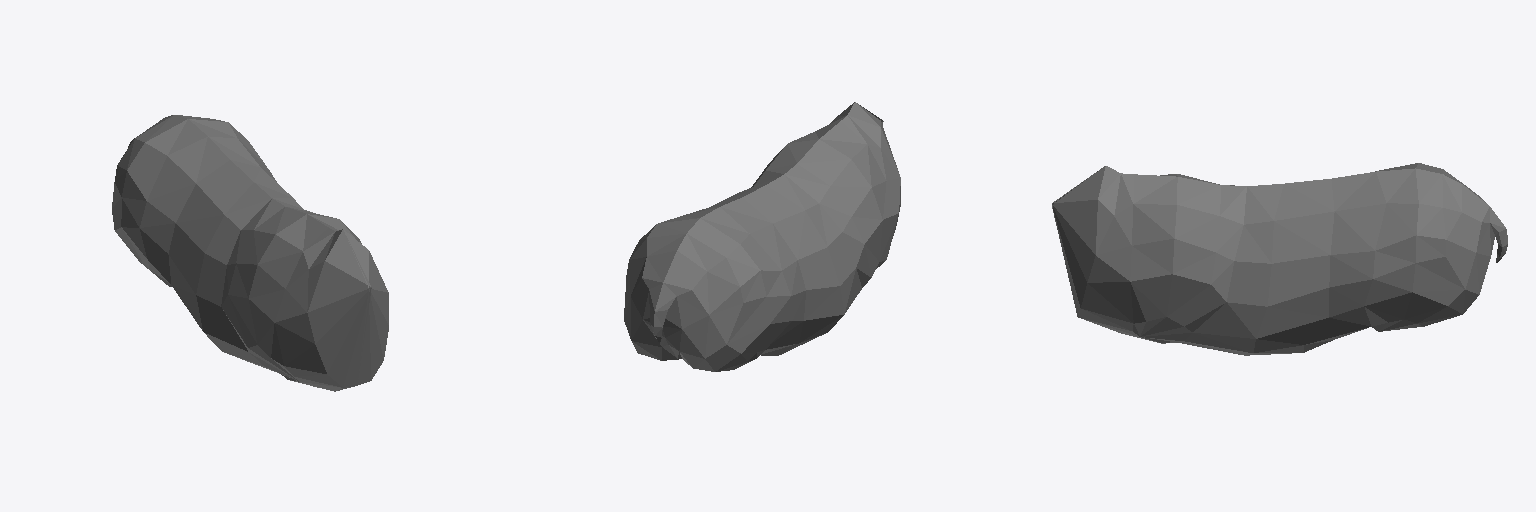
The model's file is deerBody.obj.
3 views of the same model, side by side, from view 1: azimuth 30°, elevation 25°; view 2: azimuth 150°, elevation 25°; view 3: azimuth 270°, elevation 25° (orthographic).
Parts seen in each view (by area): view 1: Deer; view 2: Deer; view 3: Deer.
Boxes of the visible parts, x1,y1,x2,y2 form: Deer: [112, 115, 388, 391]; Deer: [624, 102, 900, 371]; Deer: [1052, 163, 1507, 355].
Size of the model in its own units: 0.9287 by 1.15 by 2.63.